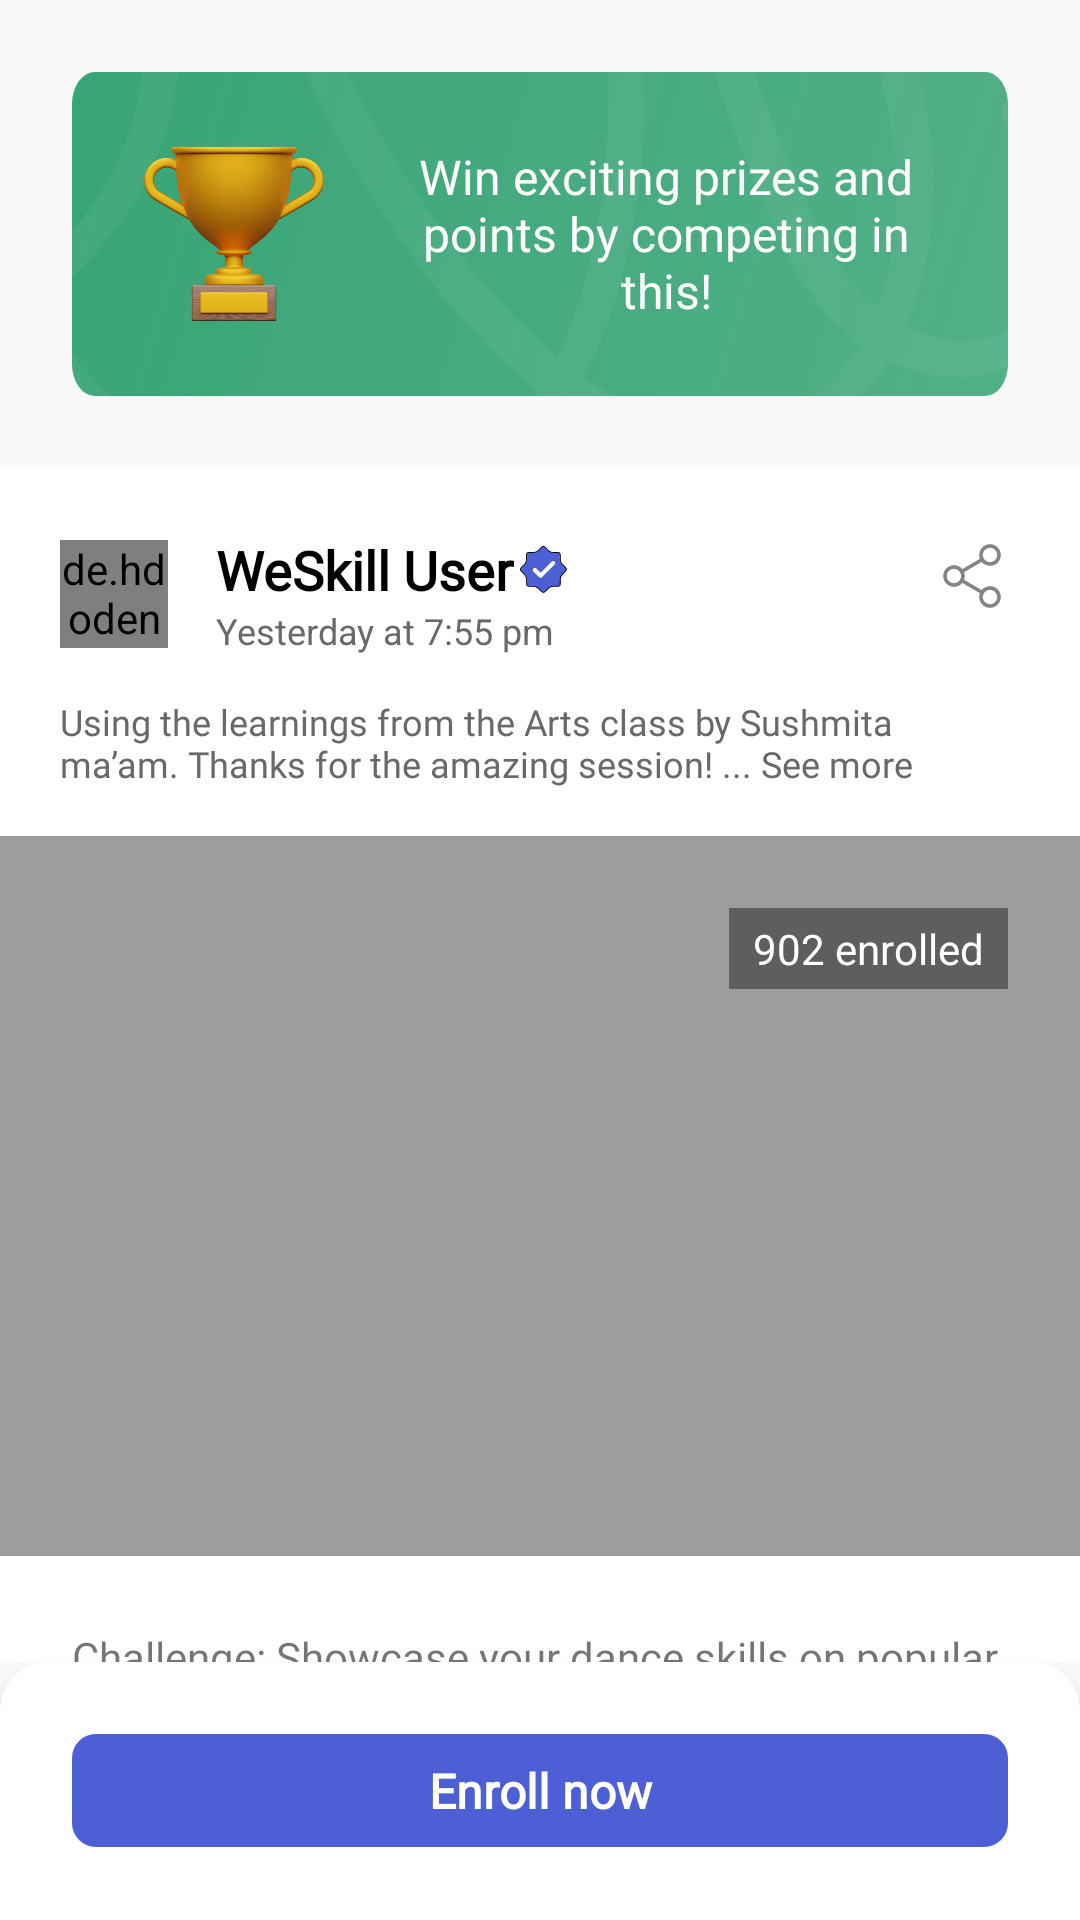

Icon bounding boxes for this 1080px x 1920px phone screenshot, format Rect(x1, y1, x2, y2):
share: Rect(943, 544, 1001, 608)
trophy: Rect(144, 147, 324, 321)
verified: Rect(520, 546, 567, 593)
